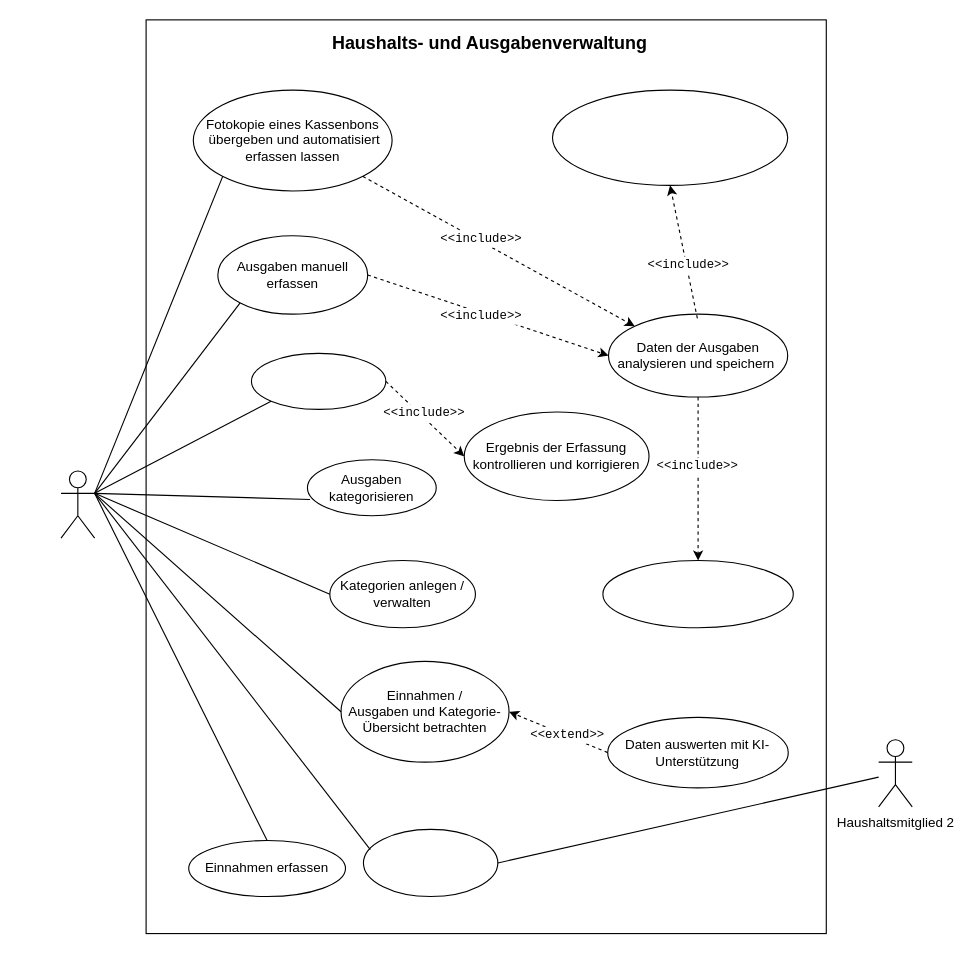
Image size: 973x953. Some labels were removed from this diagram. The box of each missing label's shape, as (x1, y1, x2, y2) in pixels:
Datenextraktion mit Hilfe optischer Zeichenerkennung: (551, 89, 788, 185)
Datenextraktion mit KI-Unterstützung: (602, 559, 793, 628)
Geldkonto anlegen / verwalten: (250, 352, 386, 409)
Haushalt bilden: (362, 828, 498, 897)
Haushaltsmitglied 1: (60, 470, 95, 538)
